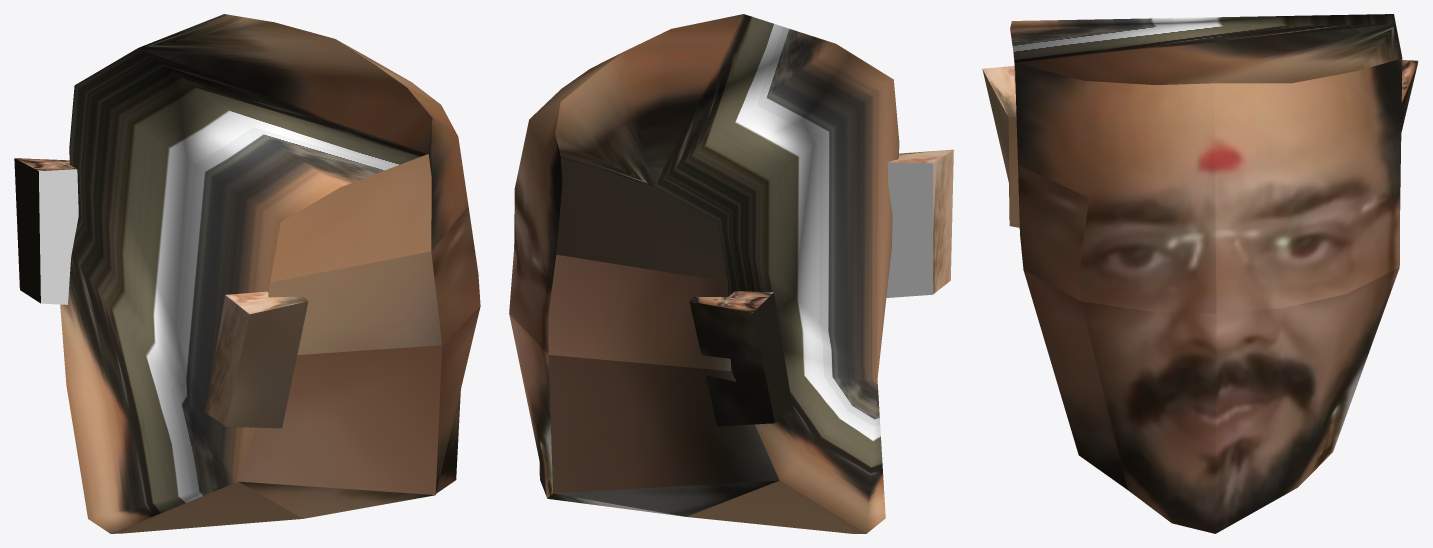
The picture shows the model from 3 angles, left to right: view 1: azimuth 30°, elevation 25°; view 2: azimuth 150°, elevation 25°; view 3: azimuth 270°, elevation 25°; orthographic projection.
Visible parts, largest first — view 1: Cylinder; view 2: Cylinder; view 3: Cylinder.
Part boxes in pixels (box(x1,y1,x2,y2)): Cylinder: box(14, 14, 480, 533); Cylinder: box(509, 14, 953, 533); Cylinder: box(982, 14, 1418, 533).
Bounding box in the file's own units: 62.21 × 72.49 × 67.79.
1 material, 1 textured.
